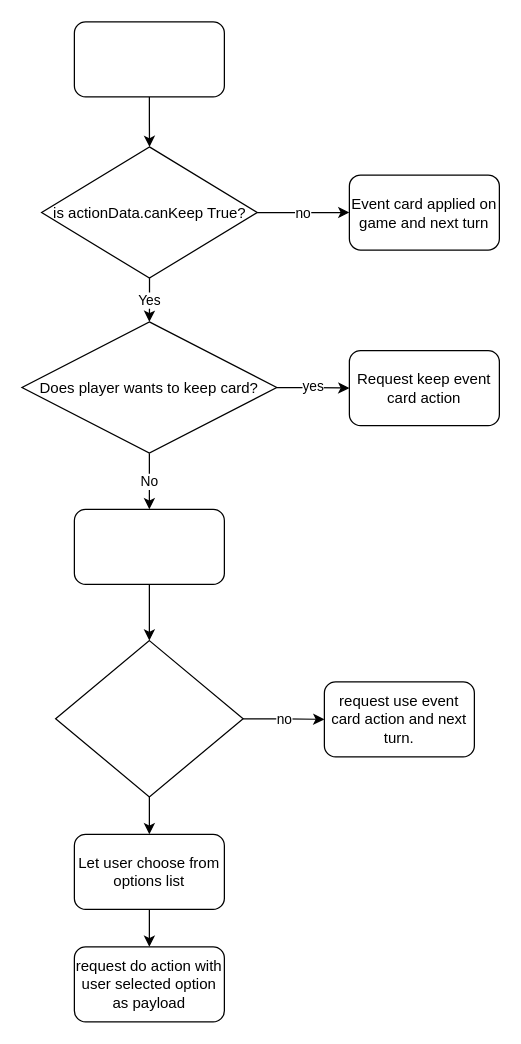
Some shapes in this 521 by 1044 pixel diagram are drawn without their labels. Here are the shapes that lost their labels. From the top down, the centre of each, then its label:
pixel 148 59: player receives event card
pixel 148 546: request see event card options action
pixel 148 718: Does event card have options?
